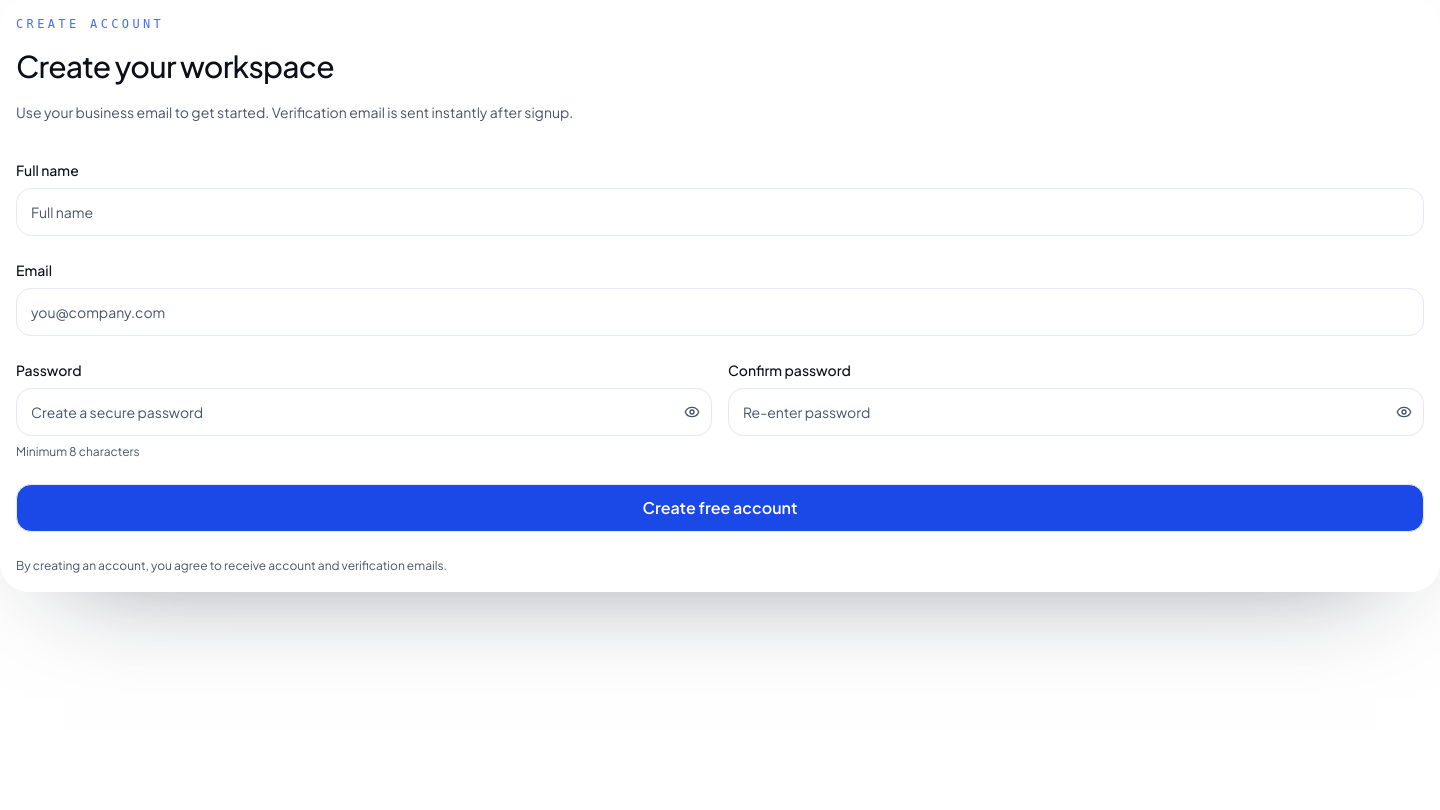
Test case: Feature: User Registration › Scenario: User cannot register twice with the same email
In the field labelled "Full name": coordinates (720, 212) [16, 188, 1424, 236], type "Jane Doe"
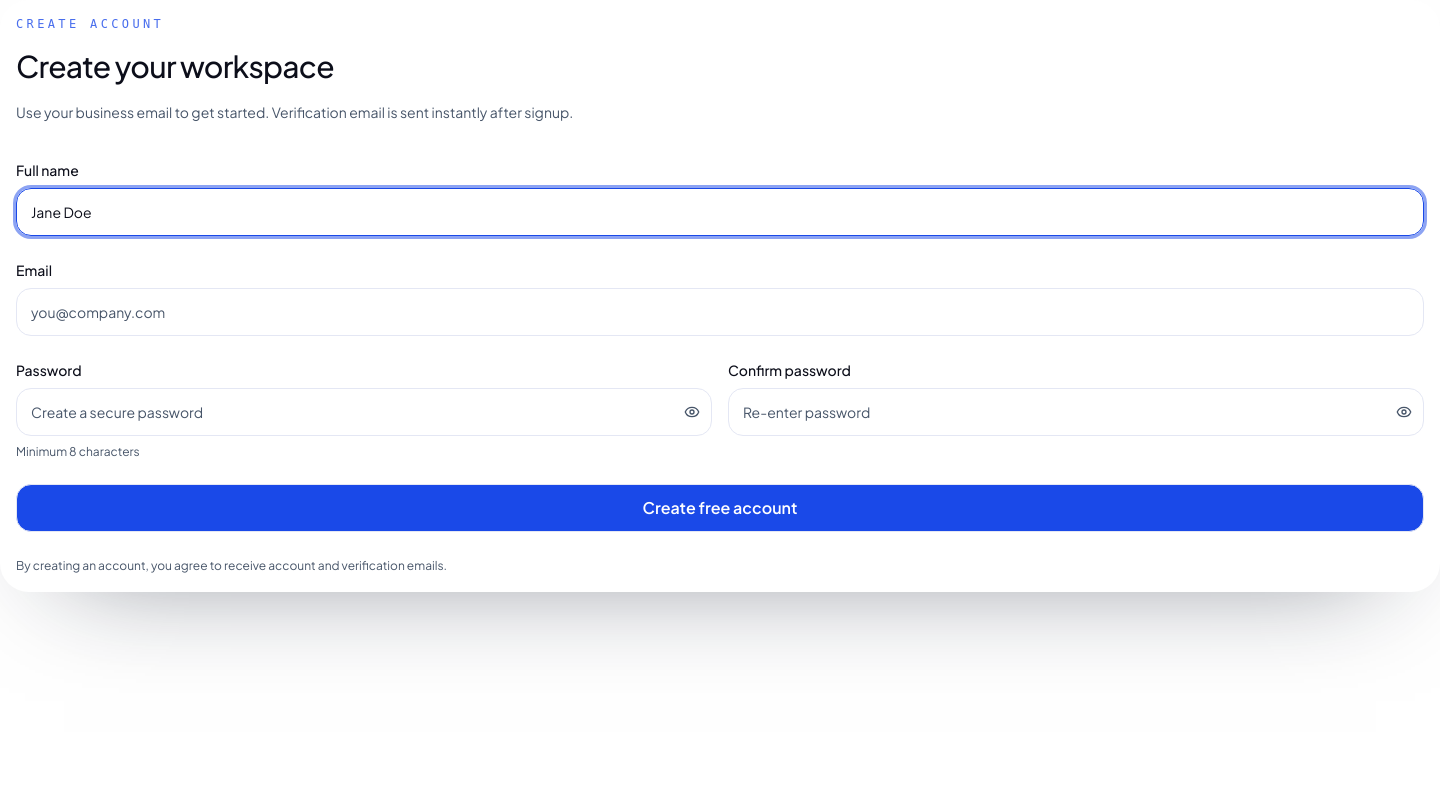
In the field labelled "Email": coordinates (720, 312) [16, 288, 1424, 336], type "existing@example.com"
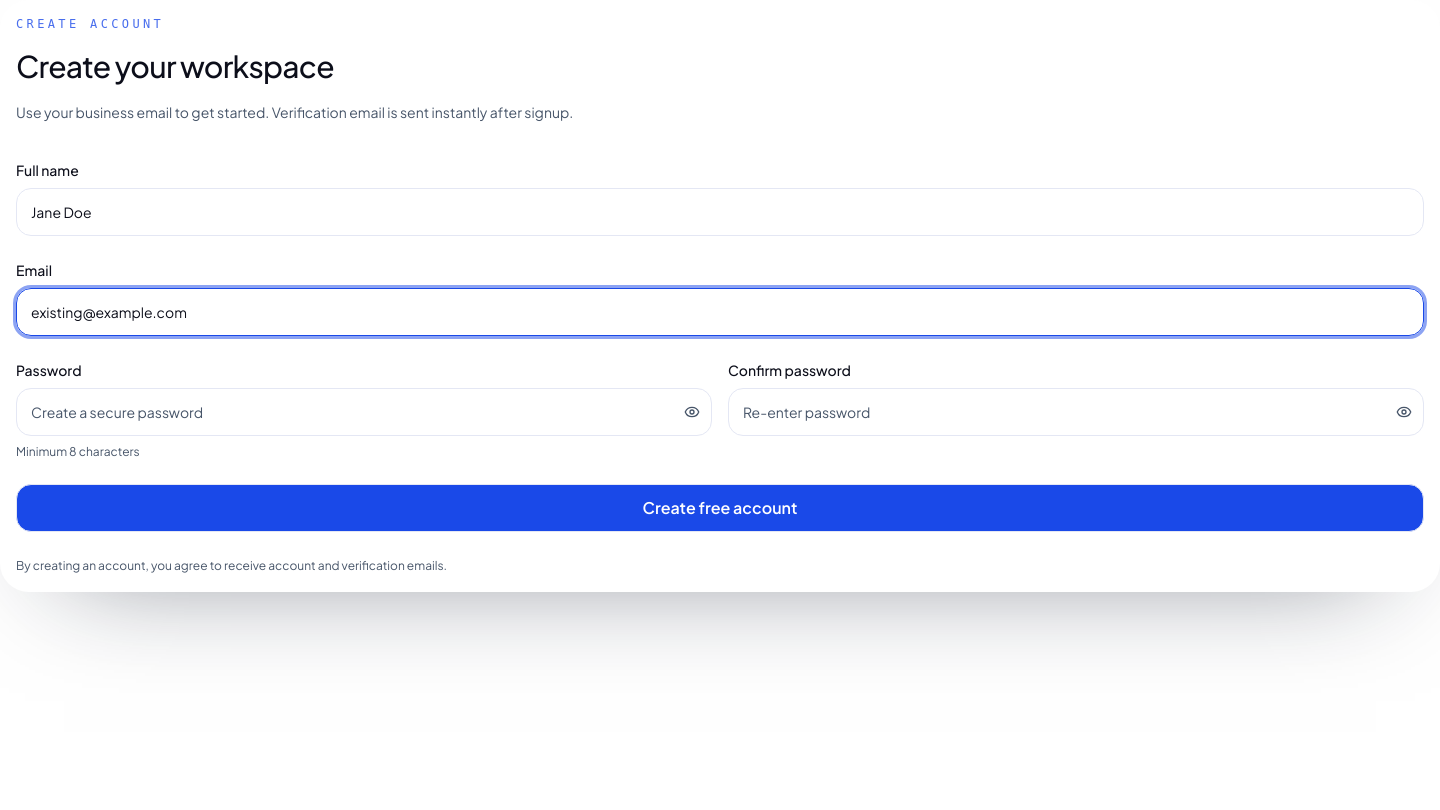
In the password field labelled "Password": coordinates (364, 412) [16, 388, 712, 436], type "StrongPass123"
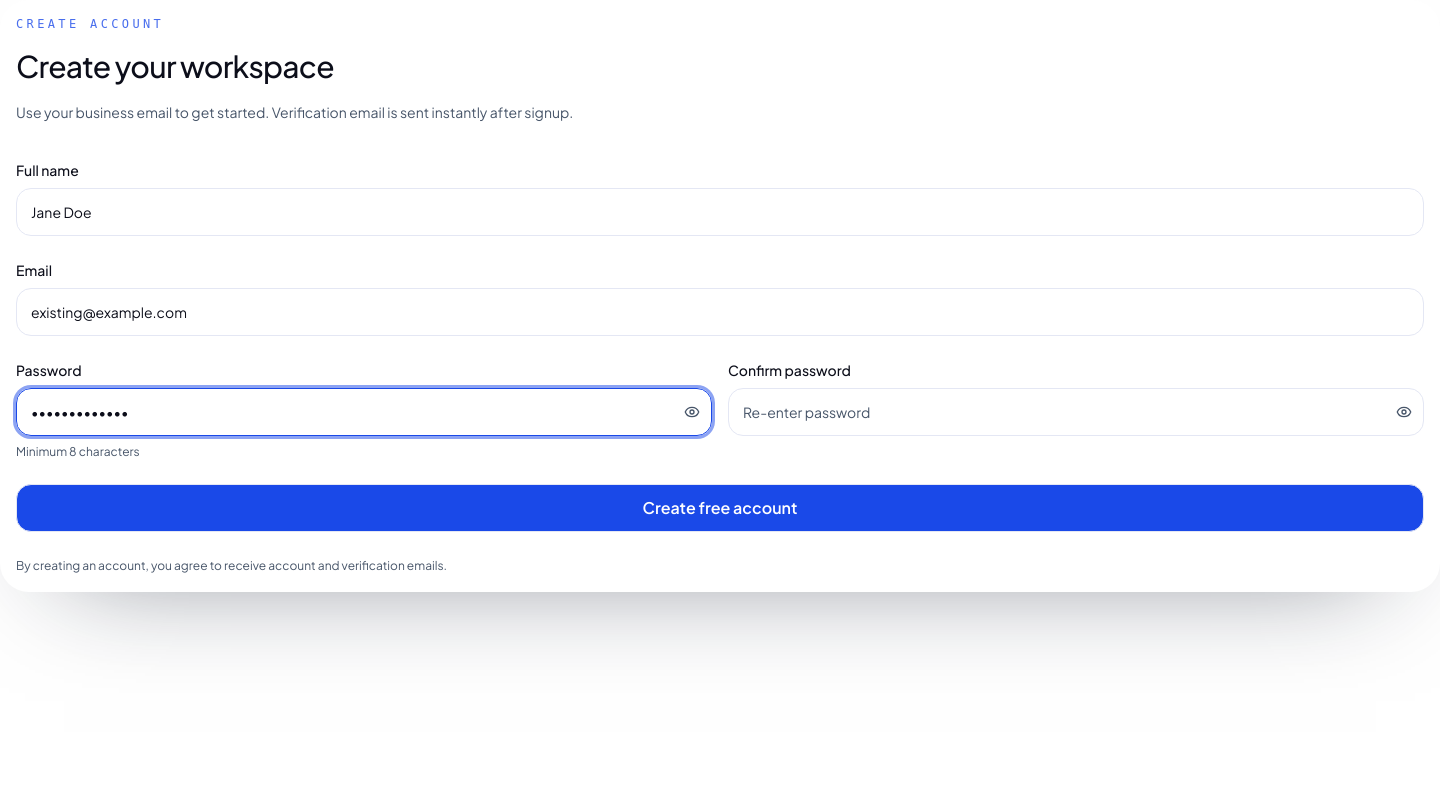
In the password field labelled "Confirm password": coordinates (1076, 412) [728, 388, 1424, 436], type "StrongPass123"
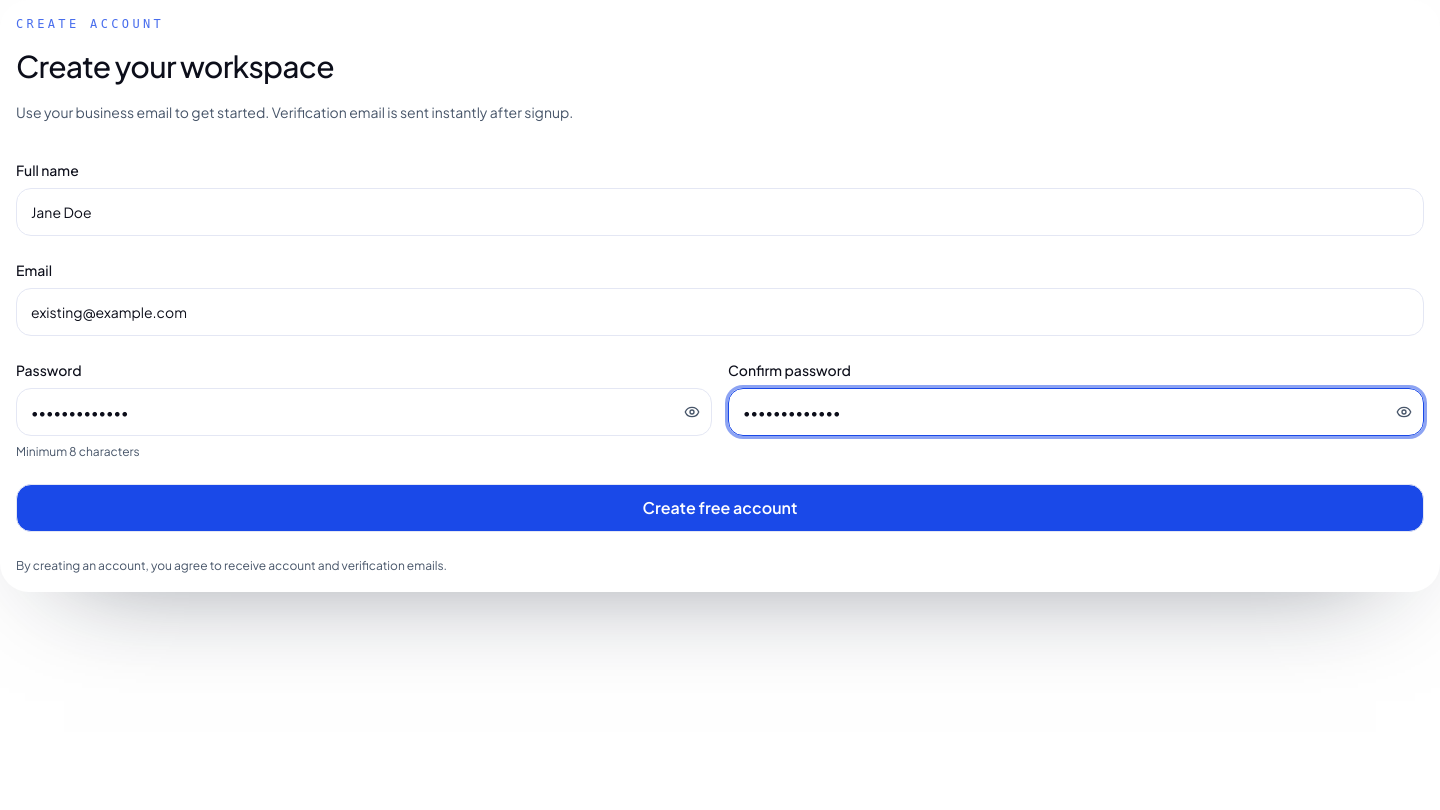
Click the button "Create free account": coordinates (720, 508) [16, 484, 1424, 532]
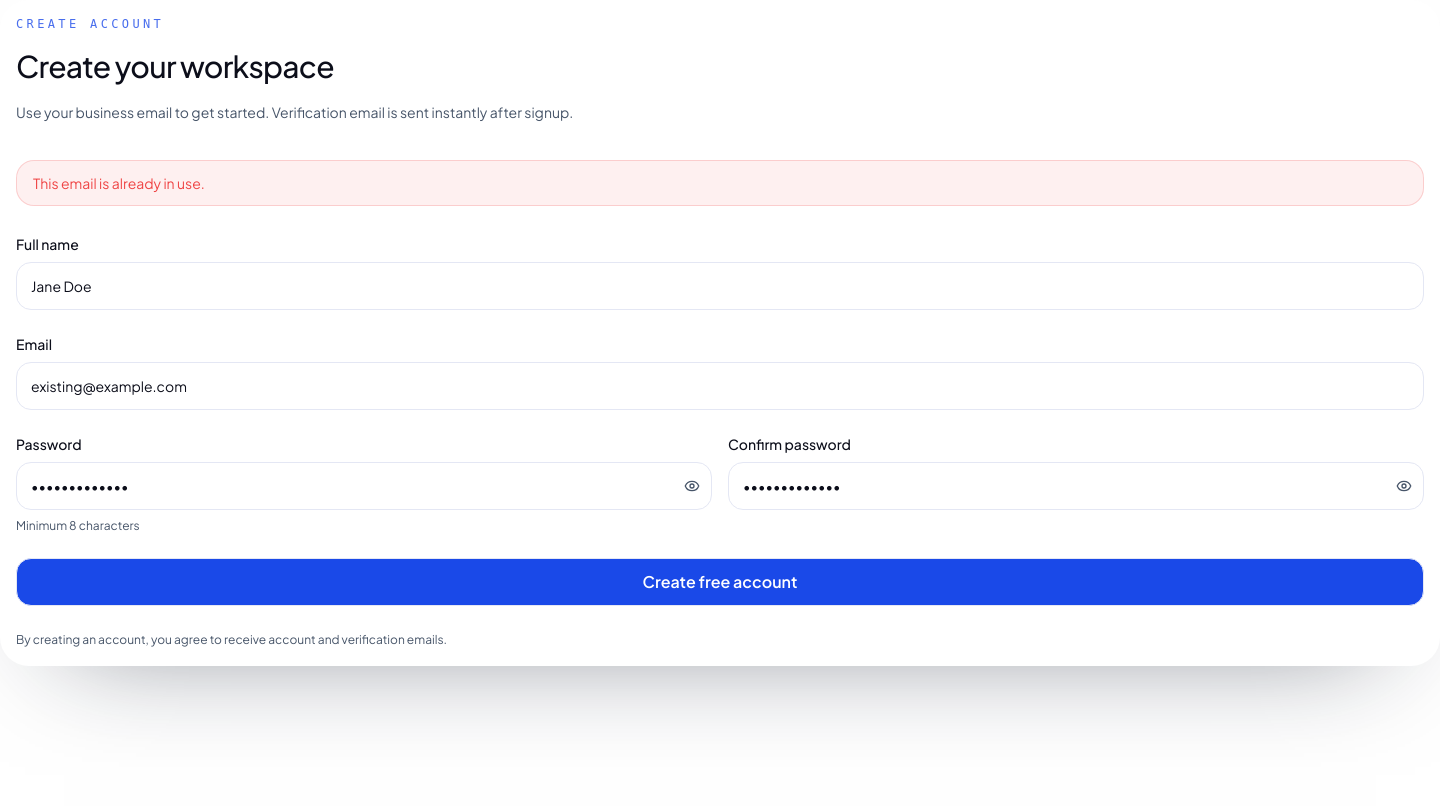
Expected: the text "This email is already in use." is shown, [16, 160, 1424, 206]
